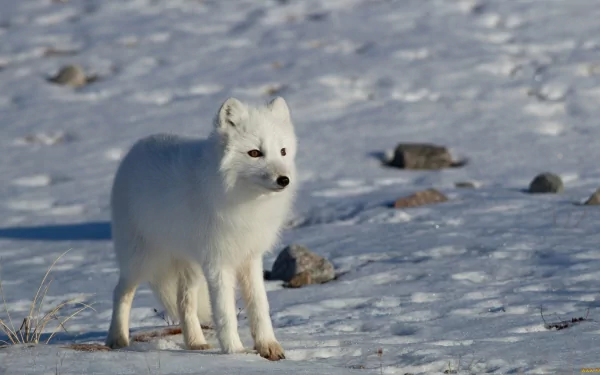arcticfox: (222, 118, 304, 206)
